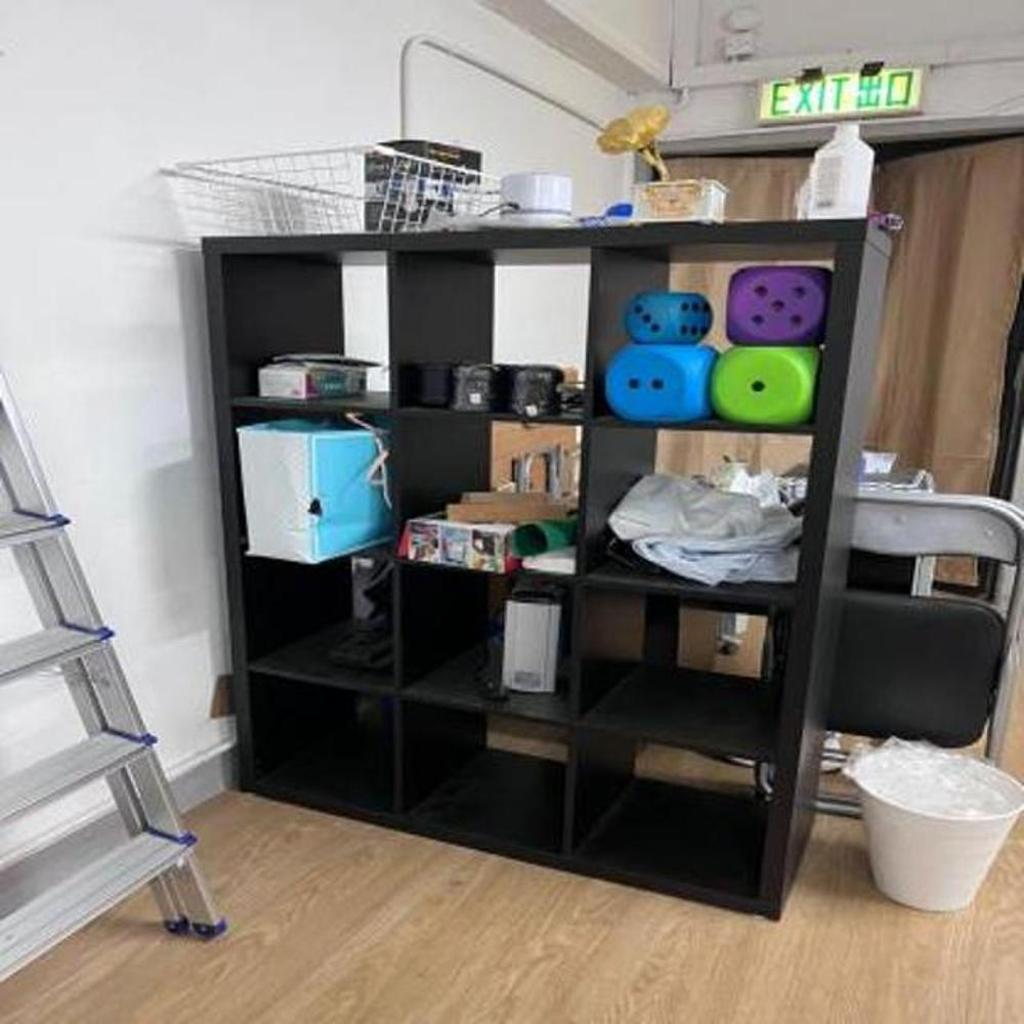lamp: (196, 218, 902, 921)
